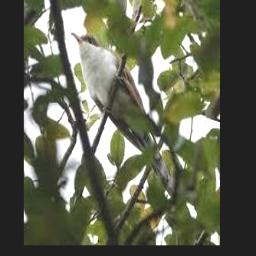Cuckoo: (71, 31, 176, 195)
